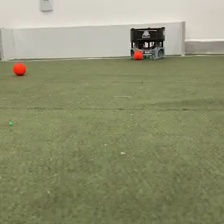ball: (12, 60, 27, 76), (133, 49, 143, 61)
goal: (1, 17, 187, 63)
robot: (128, 24, 166, 61)
